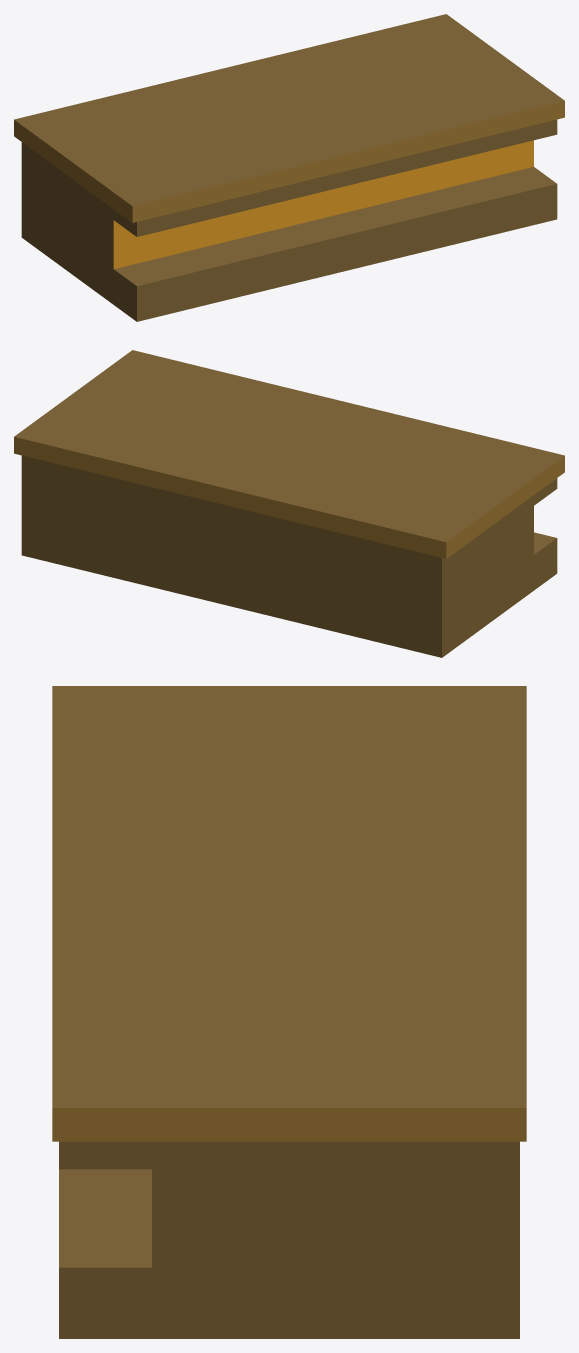
File: HouseBlock9.fbx
3 views of the same model, one above another, from view 1: azimuth 30°, elevation 25°; view 2: azimuth 150°, elevation 25°; view 3: azimuth 270°, elevation 25° (orthographic). The views are drawn at different scales.
Visible parts, largest first — view 1: HouseBlock8; view 2: HouseBlock8; view 3: HouseBlock8.
Boxes of the visible parts, <box> form: HouseBlock8: <box>14,14,564,321</box>; HouseBlock8: <box>14,350,564,657</box>; HouseBlock8: <box>52,686,526,1338</box>.
Bounding box in the file's own units: 10283 × 2690 × 4882.
